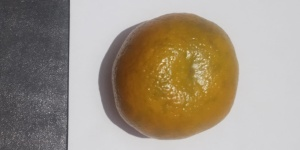BAD: (110, 13, 247, 142)
